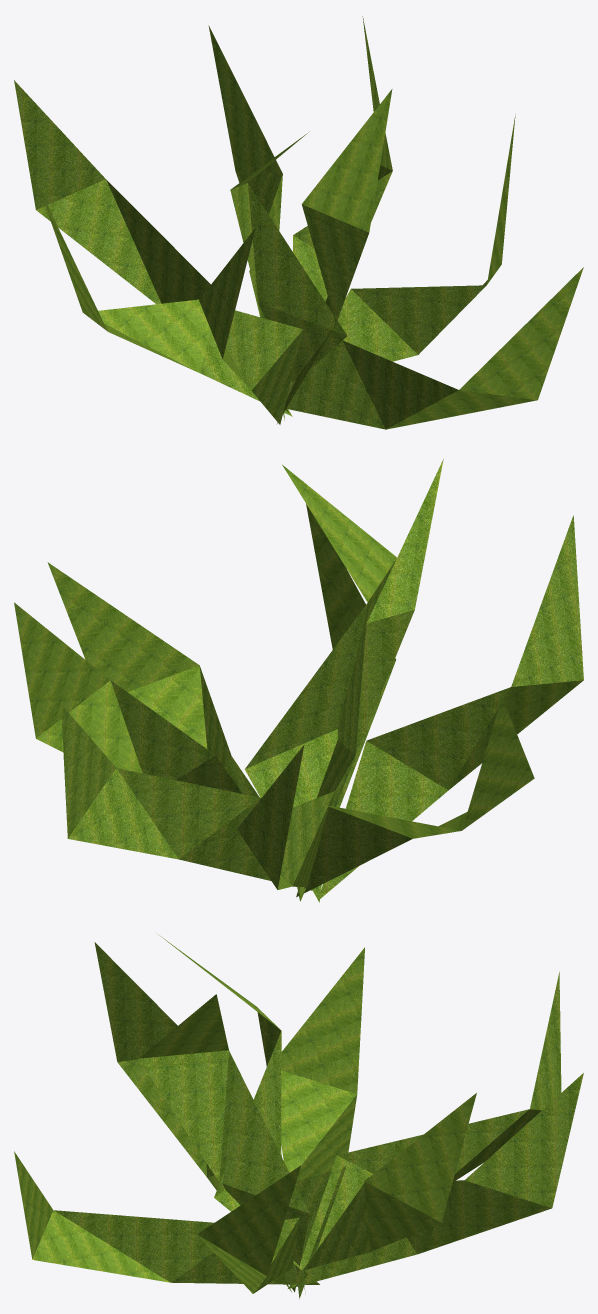
File: FougereVerte.dae
The picture shows the model from 3 angles, top to bottom: view 1: azimuth 30°, elevation 25°; view 2: azimuth 150°, elevation 25°; view 3: azimuth 270°, elevation 25°; orthographic projection. The views are drawn at different scales.
Parts seen in each view (by area): view 1: SketchUp (×9); view 2: SketchUp (×9); view 3: SketchUp (×9).
Part boxes in pixels (<box>): SketchUp (×9): <box>14,16,583,429</box>; SketchUp (×9): <box>14,459,583,902</box>; SketchUp (×9): <box>14,934,583,1298</box>.
Size of the model in its own units: 1.37 by 1.59 by 1.06.
Materials: 9 (9 with a texture image).
